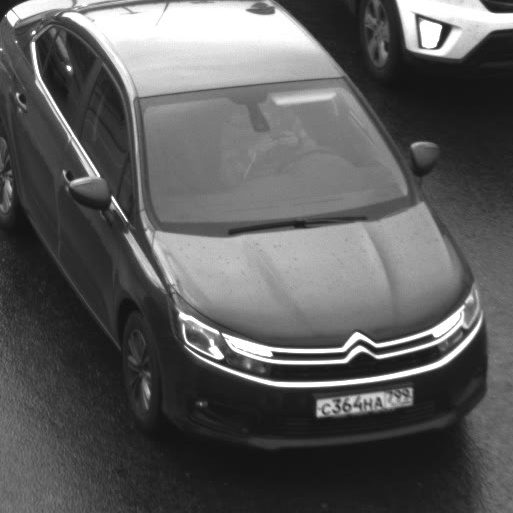plate: (303, 375, 422, 425)
